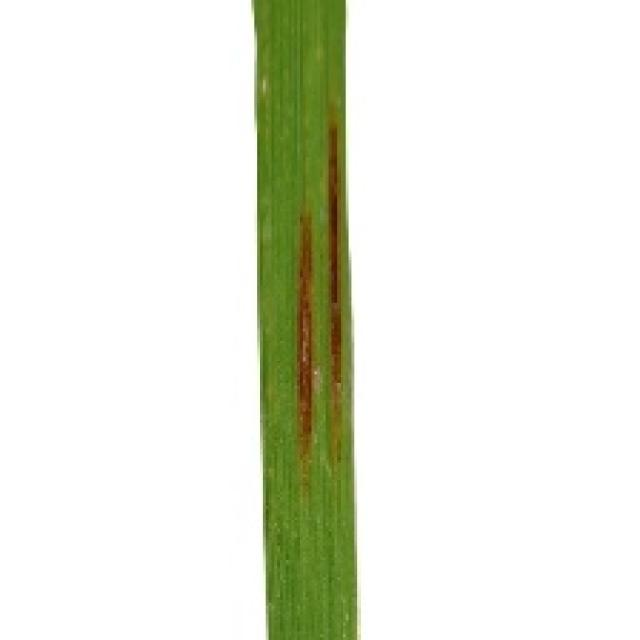Unhealthy: (329, 119, 342, 412), (298, 209, 313, 461)
